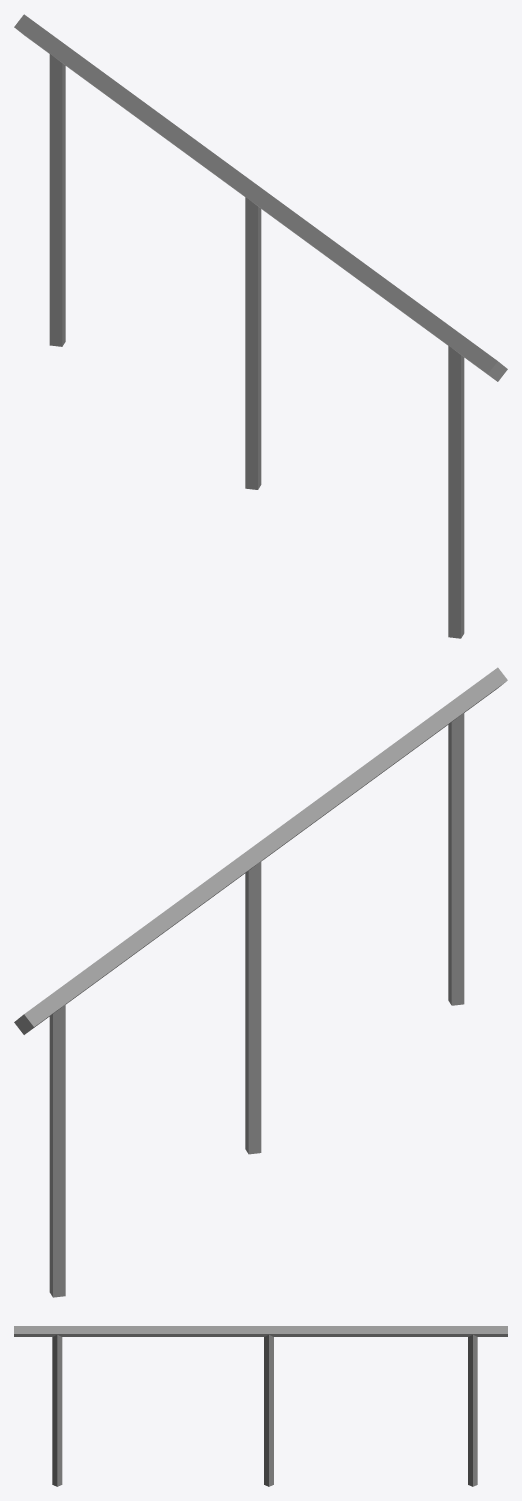
File: fence_A.FBX
3 views of the same model, one above another, from view 1: azimuth 30°, elevation 25°; view 2: azimuth 150°, elevation 25°; view 3: azimuth 270°, elevation 25° (orthographic). The views are drawn at different scales.
Parts seen in each view (by area): view 1: fence_A; view 2: fence_A; view 3: fence_A.
Part boxes in pixels (bbox=[...]): fence_A: bbox=[14, 14, 507, 638]; fence_A: bbox=[14, 667, 507, 1297]; fence_A: bbox=[14, 1326, 507, 1486].
Size of the model in its own units: 3.84 by 55.65 by 157.
